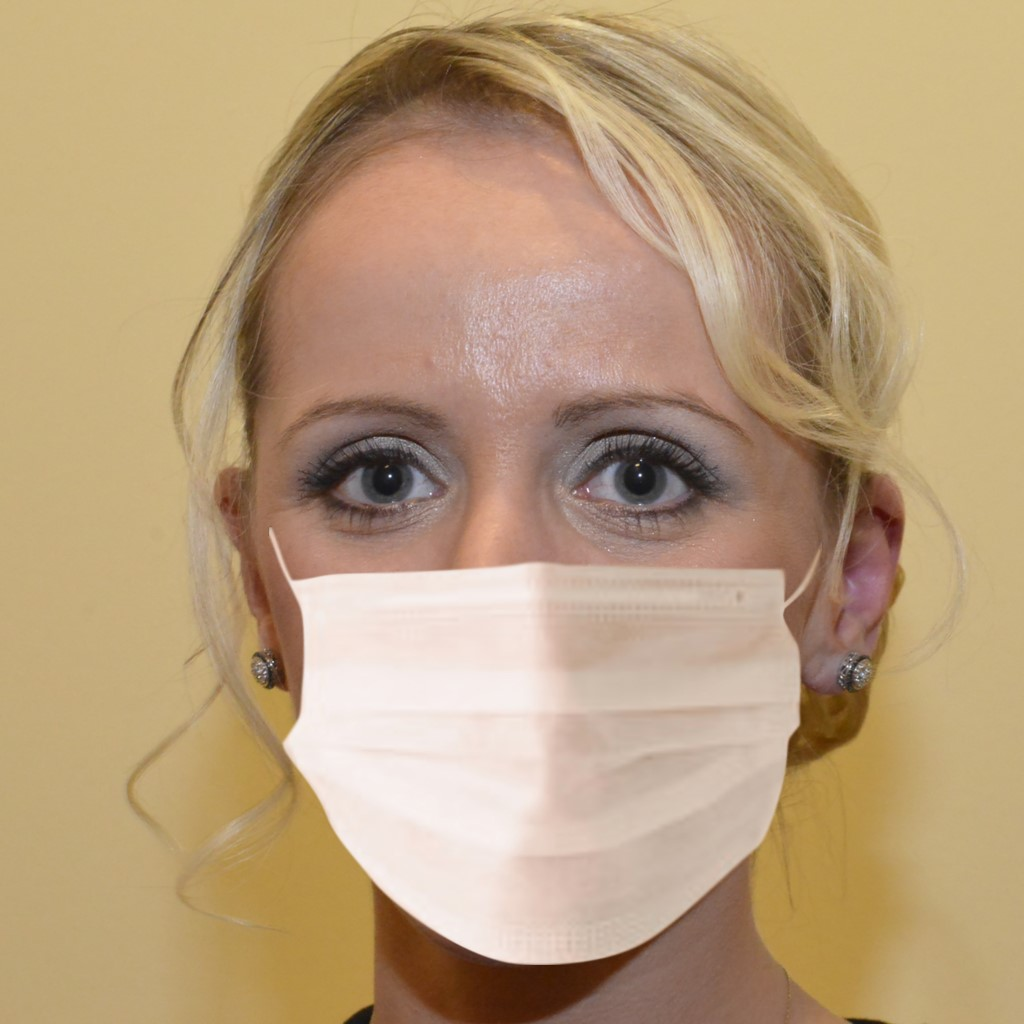con_mascara: (280, 113, 854, 989)
